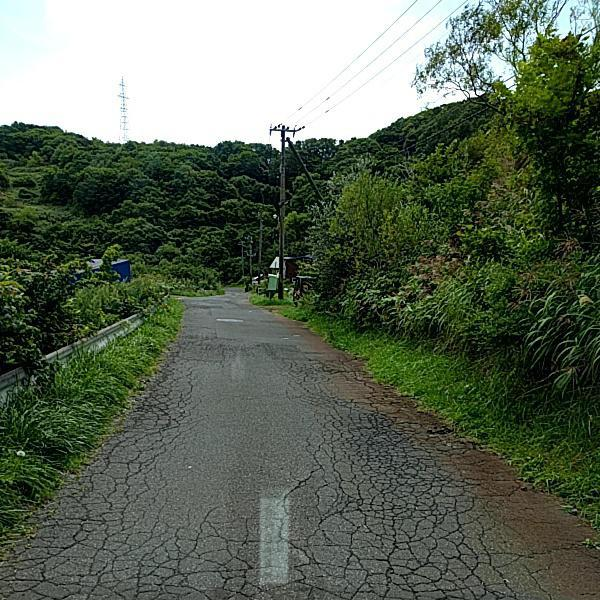D20: (237, 335, 599, 599), (0, 326, 219, 597)
